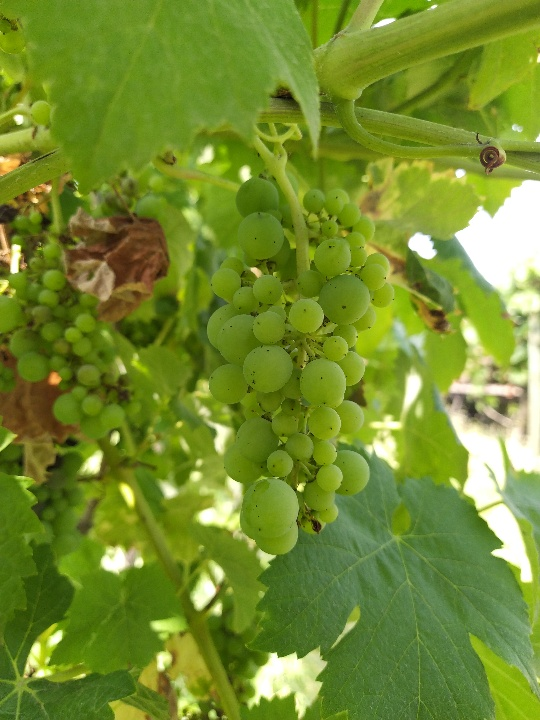grape: (200, 170, 398, 555)
